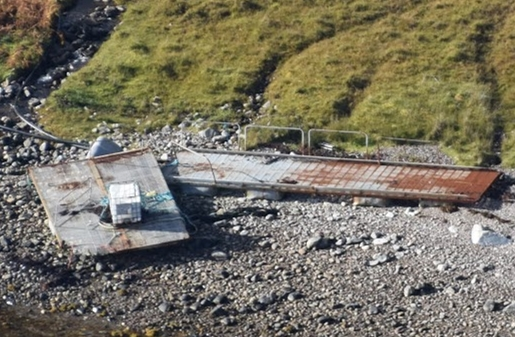cuboid: (159, 142, 505, 207), (20, 143, 196, 261), (240, 119, 308, 160), (100, 175, 150, 230), (305, 124, 372, 164)
tube: (12, 98, 50, 137), (2, 119, 59, 143), (15, 62, 37, 97)
